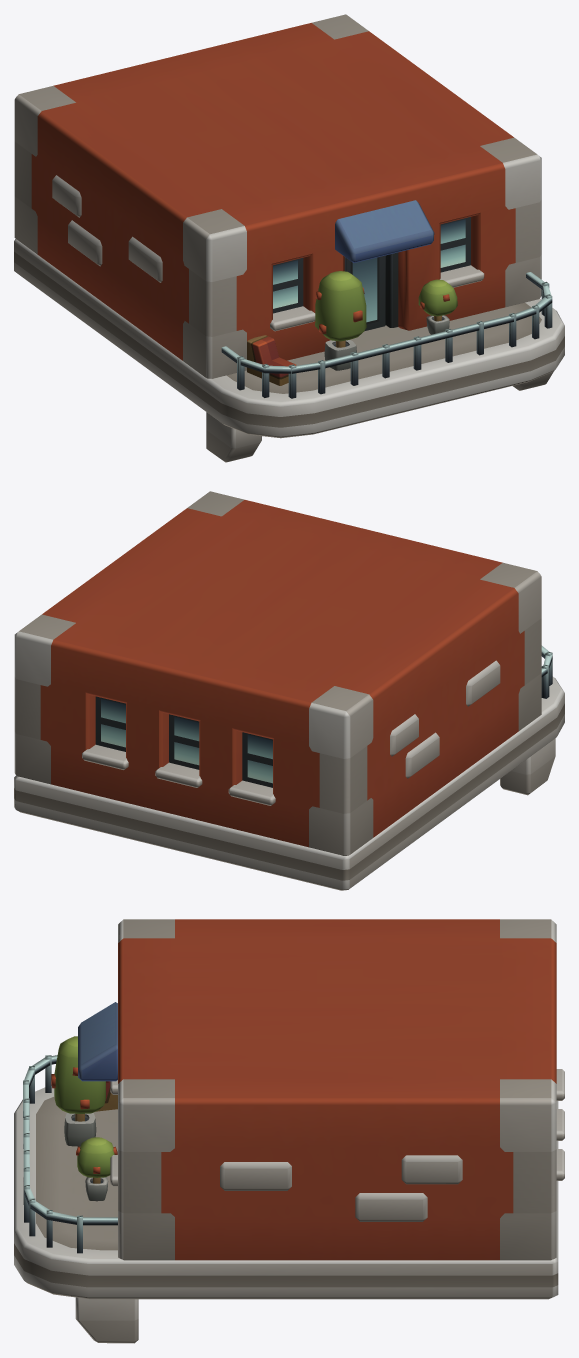
Rendered from appartment_type1_x4_balcony_red.fbx.
3 renders of one model, top to bottom at view 1: azimuth 30°, elevation 25°; view 2: azimuth 150°, elevation 25°; view 3: azimuth 270°, elevation 25°, orthographic. The views are drawn at different scales.
Parts seen in each view (by area): view 1: appartment_type1_x4_balcony_red, door_appartment_type1_x4_balcony_grey; view 2: appartment_type1_x4_balcony_red; view 3: appartment_type1_x4_balcony_red.
Part boxes in pixels (<box>): appartment_type1_x4_balcony_red: <box>14,14,564,462</box>; door_appartment_type1_x4_balcony_grey: <box>346,255,385,331</box>; appartment_type1_x4_balcony_red: <box>14,491,564,890</box>; appartment_type1_x4_balcony_red: <box>14,919,564,1343</box>.
Size of the model in its own units: 819 by 505 by 1017.
